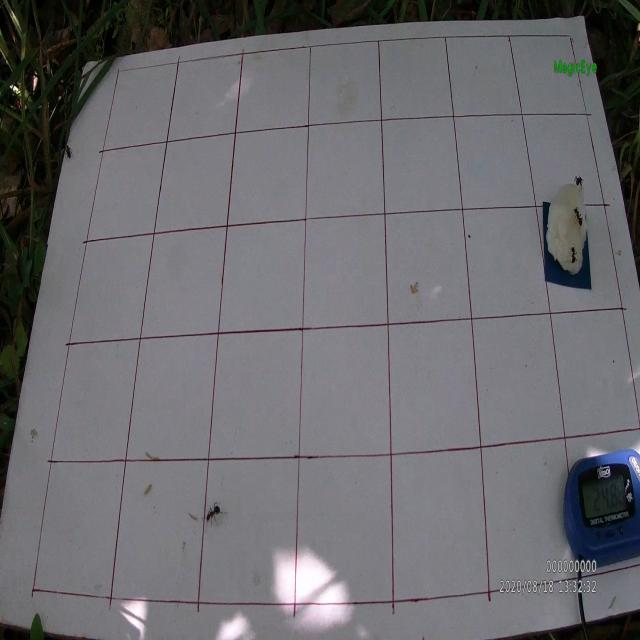Ant: (203, 501, 228, 533), (573, 206, 583, 237), (64, 139, 74, 162), (572, 173, 584, 192), (568, 243, 577, 265)
